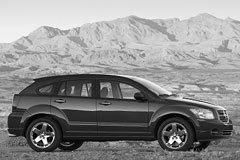car: (9, 73, 234, 153)
